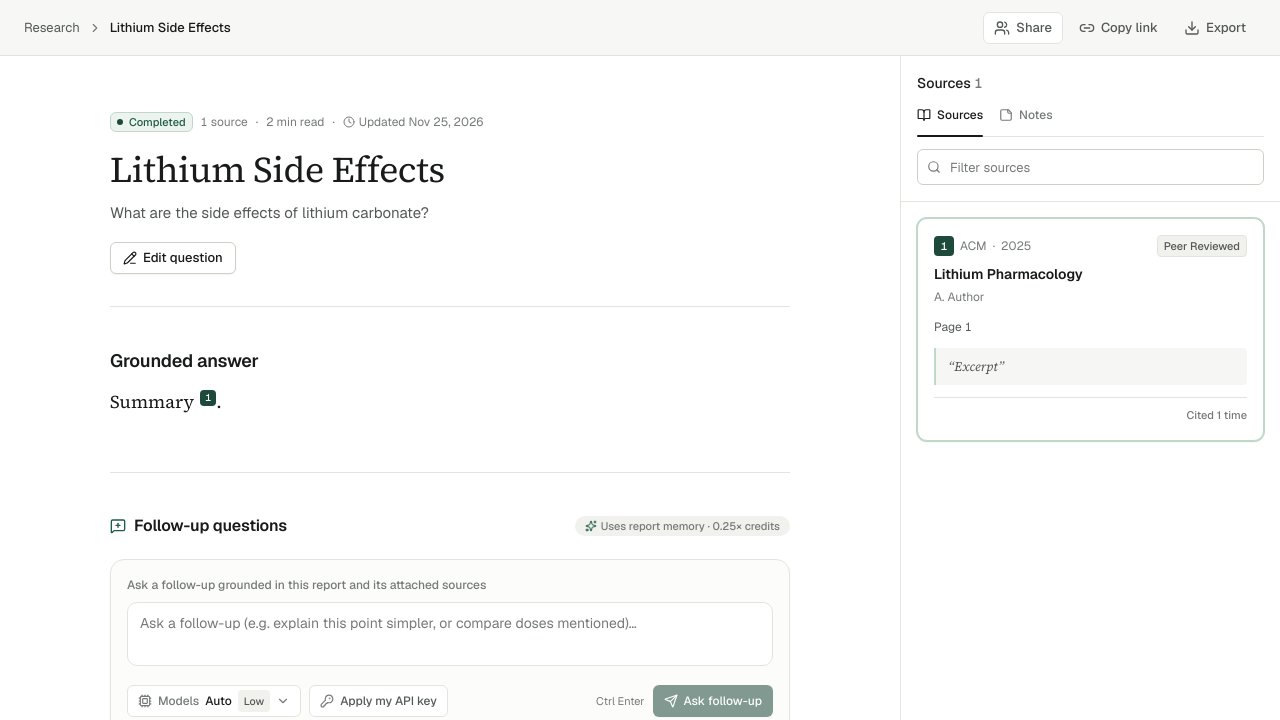
it: Research pause and edit question controls › allows an editor to edit the question on a completed ResearchReportPage
Click the button "Edit question" at (173, 258), box [110,242,236,274]
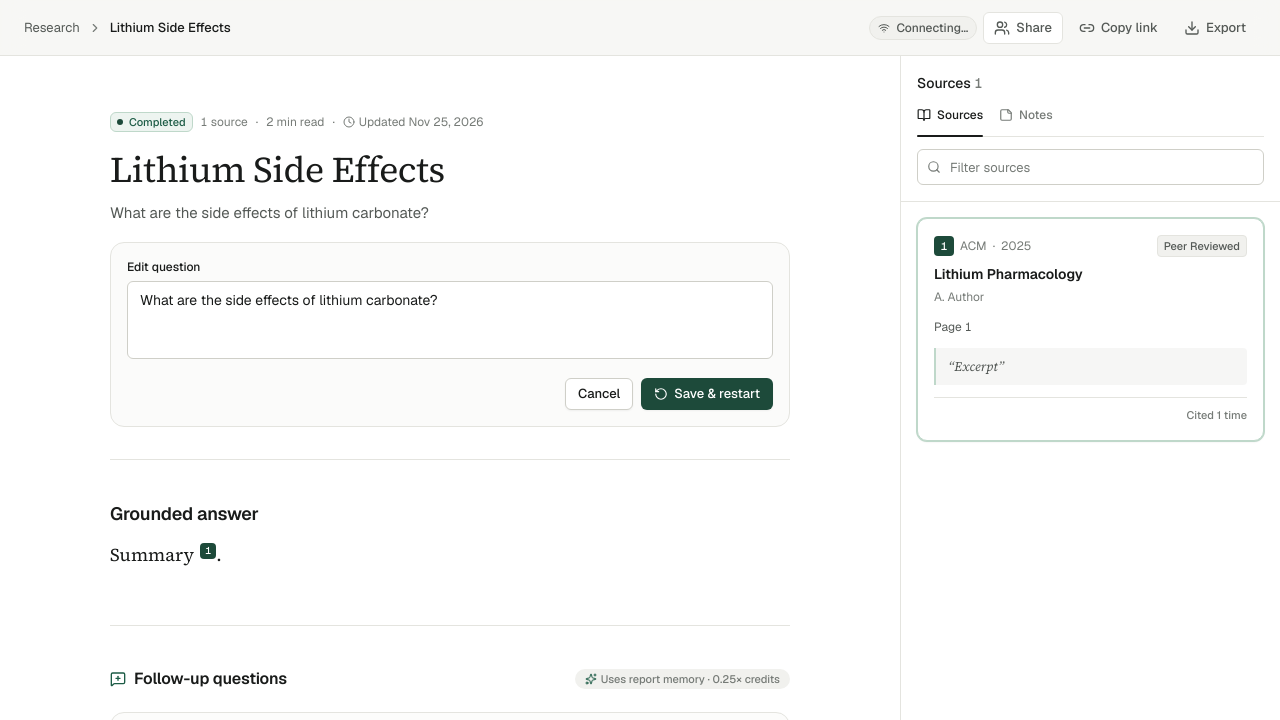
Replace the text in the text box labelled "Edit question" with "Updated renal monitoring question" at (450, 320), box [127,281,773,359]
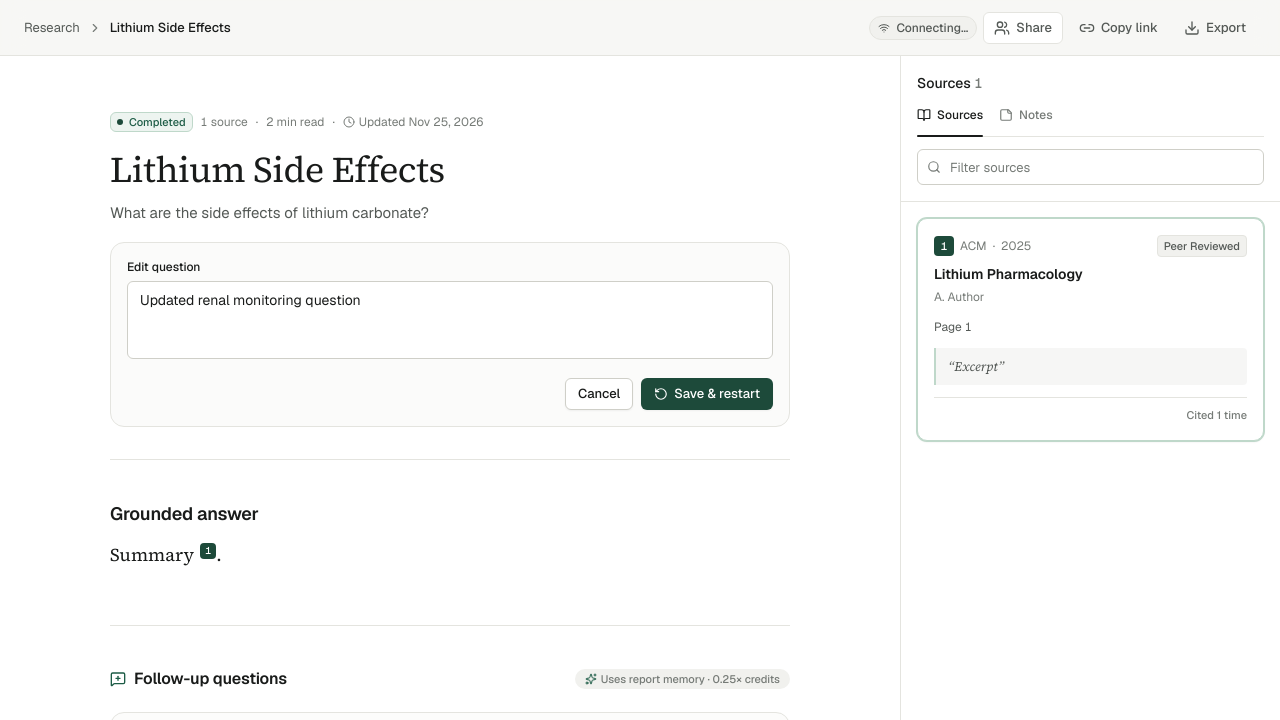
Click the button "Save & restart" at (707, 394), box [641,378,773,410]
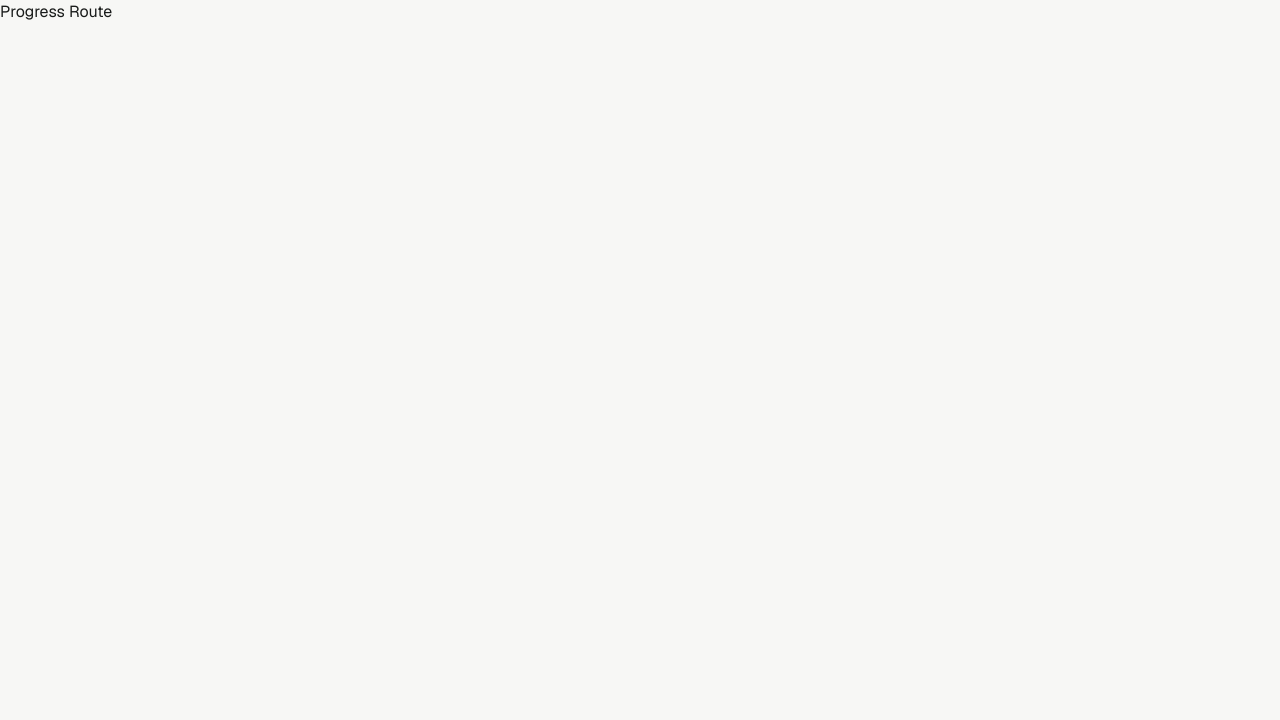
Check: the text "Progress Route" is shown, box [0,1,112,22]
